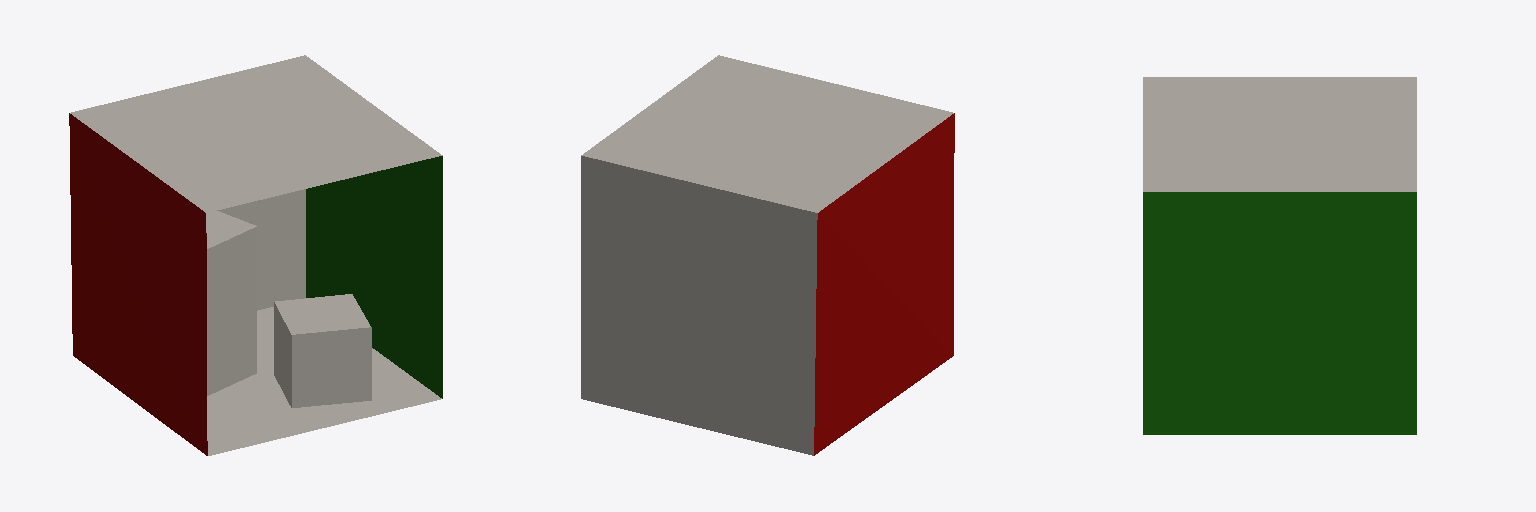
The model's file is anotherCornellBox.obj.
3 renders of one model, left to right at view 1: azimuth 30°, elevation 25°; view 2: azimuth 150°, elevation 25°; view 3: azimuth 270°, elevation 25°, orthographic.
Visible parts, largest first — view 1: CornellBox_Original_leftWall, CornellBox_Original_ceiling, CornellBox_Original_rightWall, CornellBox_Original_floor, CornellBox_Original_shortBox, CornellBox_Original_backWall; view 2: CornellBox_Original_backWall, CornellBox_Original_leftWall, CornellBox_Original_ceiling; view 3: CornellBox_Original_rightWall, CornellBox_Original_ceiling.
Part boxes in pixels (bbox=[...]): CornellBox_Original_leftWall: bbox=[69, 113, 371, 455]; CornellBox_Original_ceiling: bbox=[70, 55, 442, 212]; CornellBox_Original_rightWall: bbox=[306, 156, 442, 398]; CornellBox_Original_floor: bbox=[207, 307, 441, 455]; CornellBox_Original_shortBox: bbox=[206, 211, 256, 395]; CornellBox_Original_backWall: bbox=[217, 189, 305, 310]; CornellBox_Original_backWall: bbox=[581, 156, 817, 455]; CornellBox_Original_leftWall: bbox=[814, 113, 954, 455]; CornellBox_Original_ceiling: bbox=[581, 55, 953, 212]; CornellBox_Original_rightWall: bbox=[1143, 192, 1416, 434]; CornellBox_Original_ceiling: bbox=[1143, 77, 1416, 191].
Bounding box in the file's own units: 2.02 × 1.99 × 2.03.